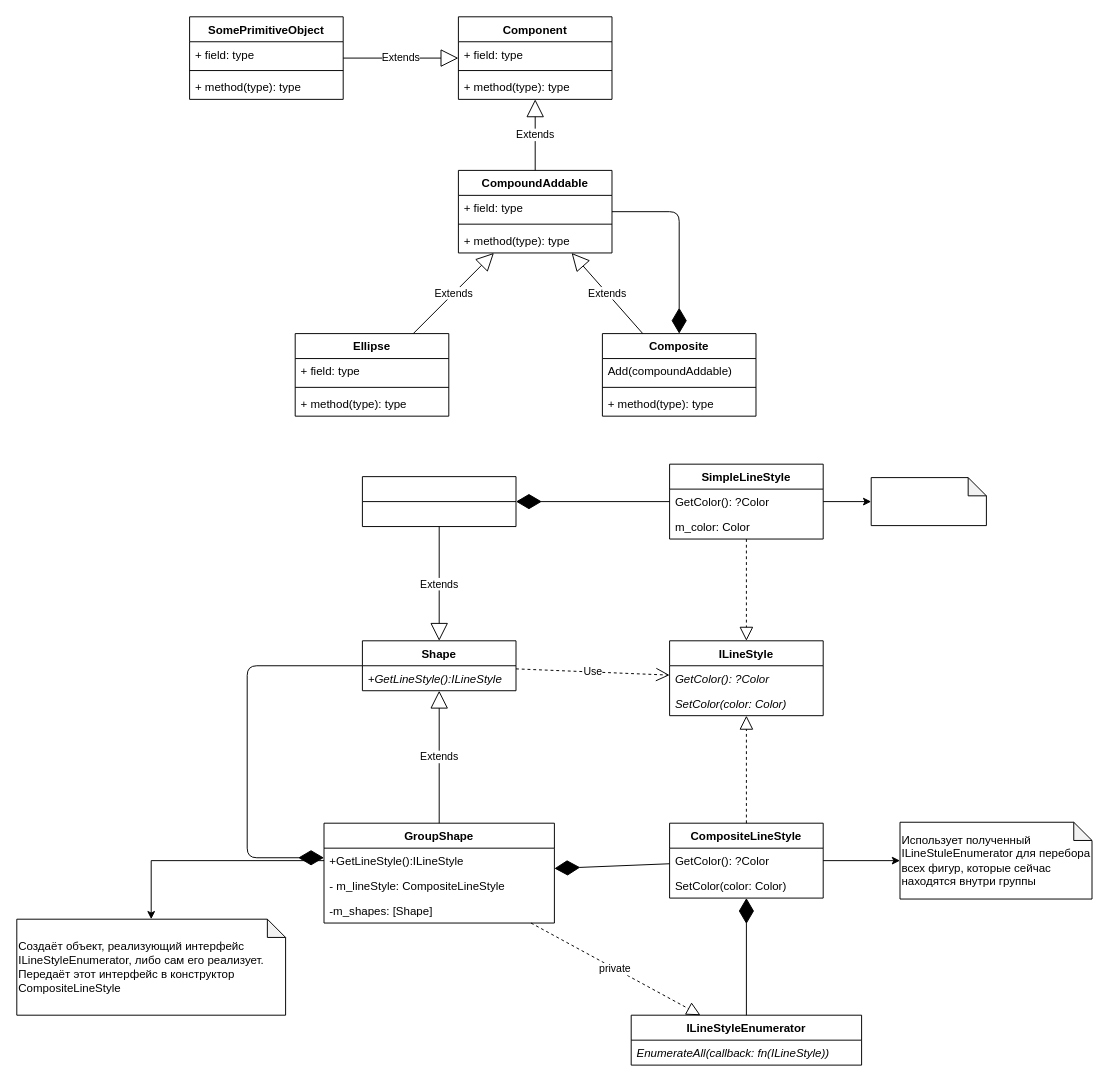
Some shapes in this 1109 by 1085 pixel diagram are drawn without their labels. Each missing label, with the centre of its shape:
return m_color;: the point at 928,501
SimpleShape: the point at 438,501
